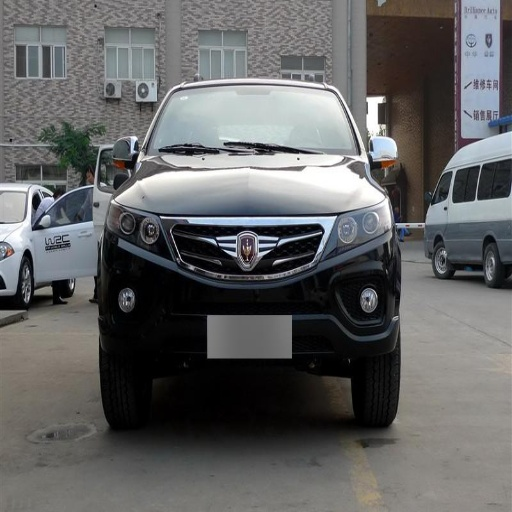front_bumper: (103, 211, 400, 372)
front_glass: (147, 86, 360, 166)
front_right_light: (112, 199, 161, 251)
hood: (124, 155, 382, 213)
